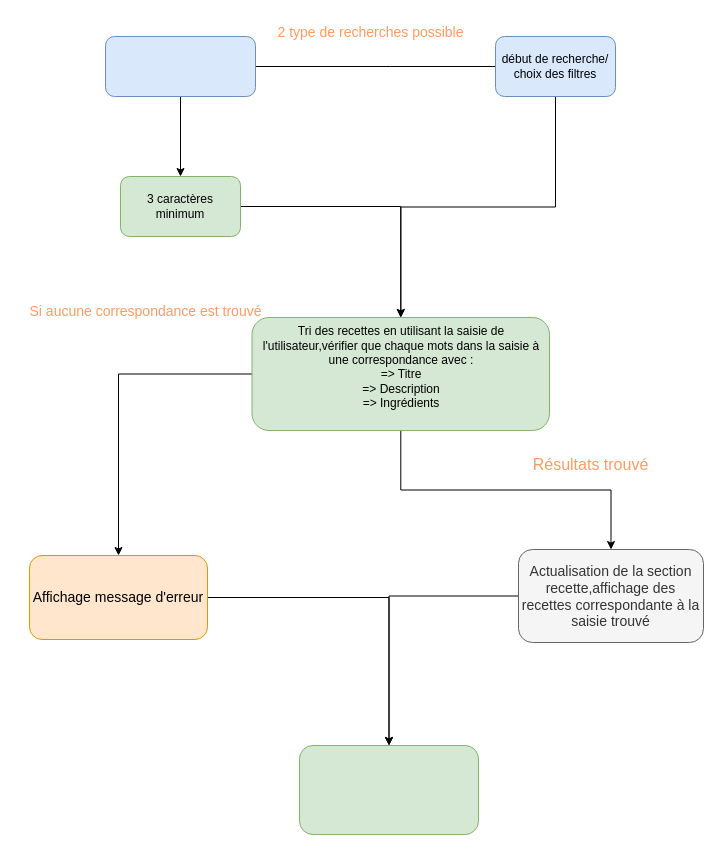
Image size: 721x852. Some labels were removed from this diagram. Each missing label, with the centre of its shape:
"début de recherche /champs de saisie" goes at [180,66].
"Fin de la recherche /Abandon" goes at [388,789].
